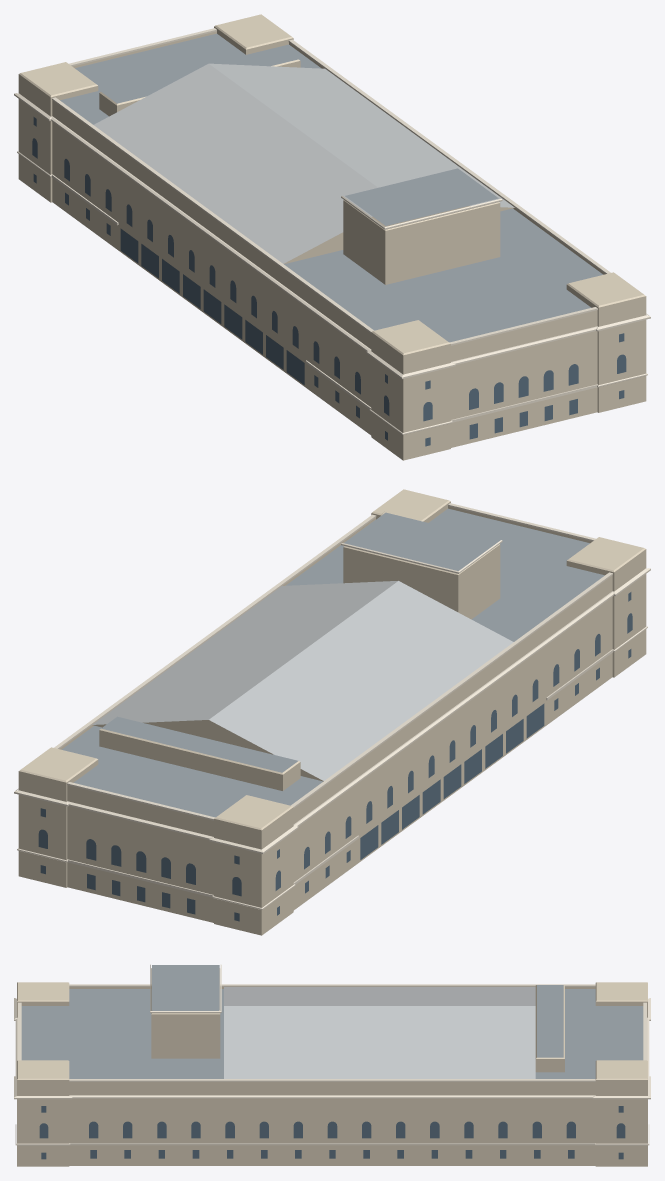
File: cle-public-auditorium.glb
3 views of the same model, one above another, from view 1: azimuth 30°, elevation 25°; view 2: azimuth 150°, elevation 25°; view 3: azimuth 270°, elevation 25° (orthographic). The views are drawn at different scales.
Parts seen in each view (by area): view 1: Cleveland Public Auditorium; view 2: Cleveland Public Auditorium; view 3: Cleveland Public Auditorium.
Boxes of the visible parts, x1=… form: Cleveland Public Auditorium: x1=14, y1=14, x2=650, y2=460; Cleveland Public Auditorium: x1=14, y1=489, x2=650, y2=935; Cleveland Public Auditorium: x1=14, y1=964, x2=650, y2=1166.
Size of the model in its own units: 65.1 by 39.6 by 176.
